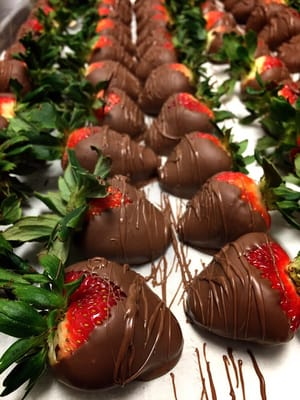burger: (192, 345, 267, 400)
